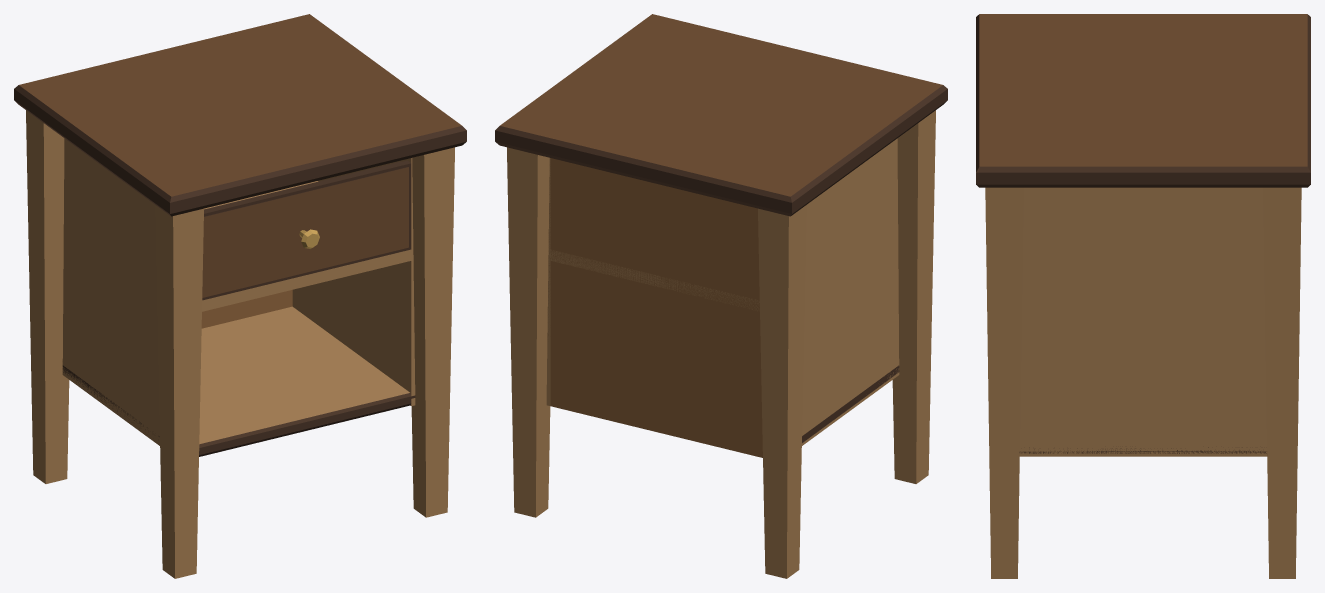
Rendered from FN_Table_Side.glb.
The picture shows the model from 3 angles, left to right: view 1: azimuth 30°, elevation 25°; view 2: azimuth 150°, elevation 25°; view 3: azimuth 270°, elevation 25°; orthographic projection. The views are drawn at different scales.
Visible parts, largest first — view 1: FN_Table_Side; view 2: FN_Table_Side; view 3: FN_Table_Side.
Boxes of the visible parts, x1,y1,x2,y2 form: FN_Table_Side: [14, 14, 466, 578]; FN_Table_Side: [495, 14, 947, 578]; FN_Table_Side: [976, 14, 1310, 578].
Bounding box in the file's own units: 0.44 × 0.55 × 0.4.
Materials: 1 (1 with a texture image).
